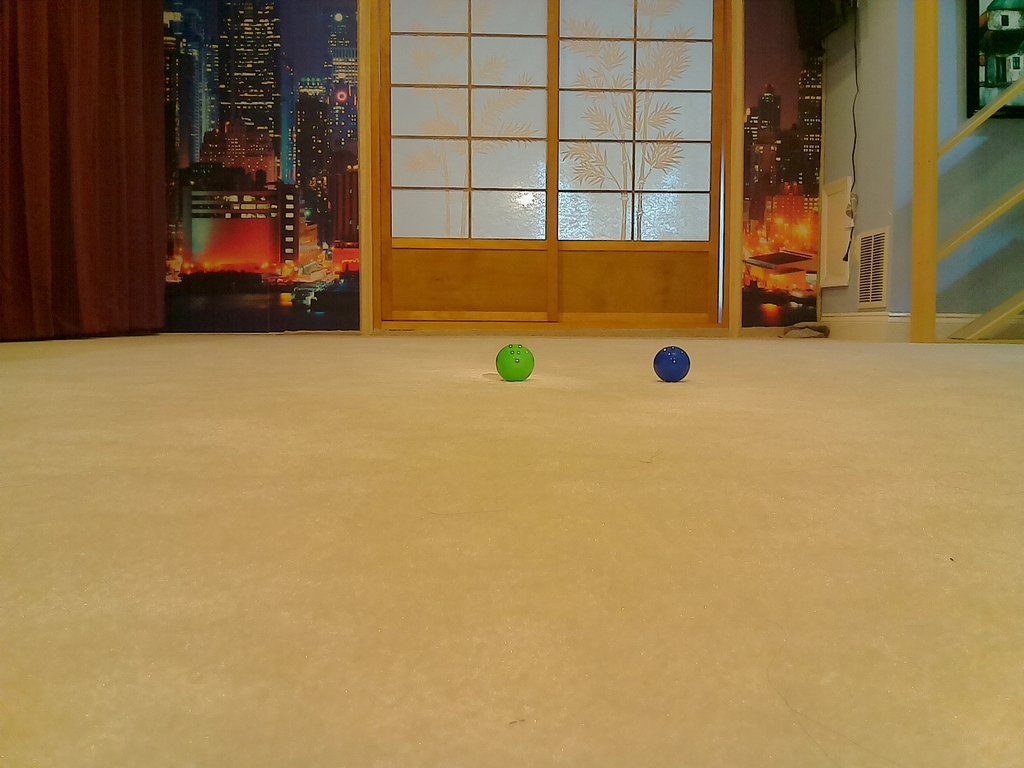ball: (495, 342, 533, 382)
